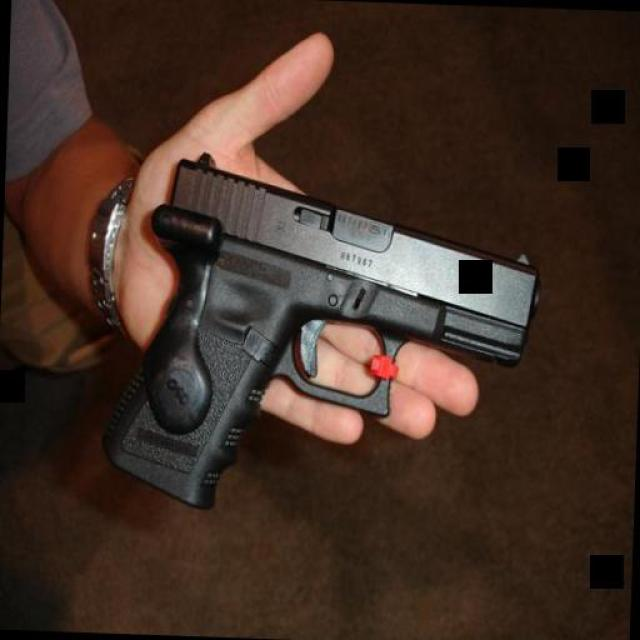gun: (100, 139, 549, 535)
